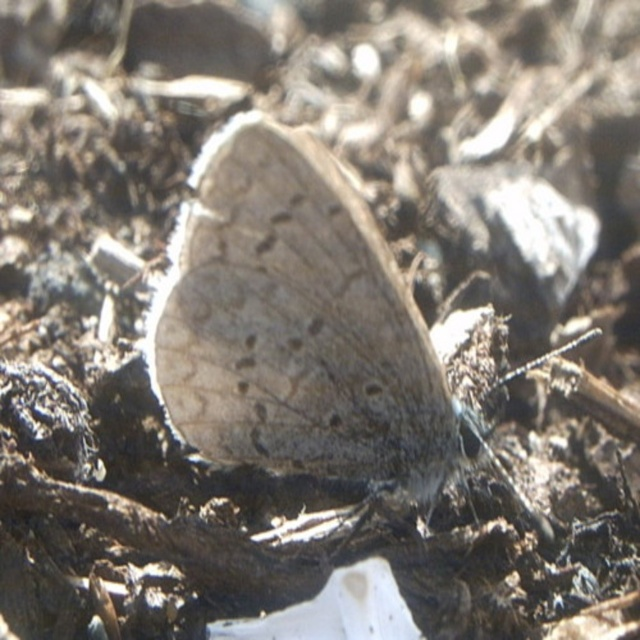Butterfly: (142, 109, 604, 572)
